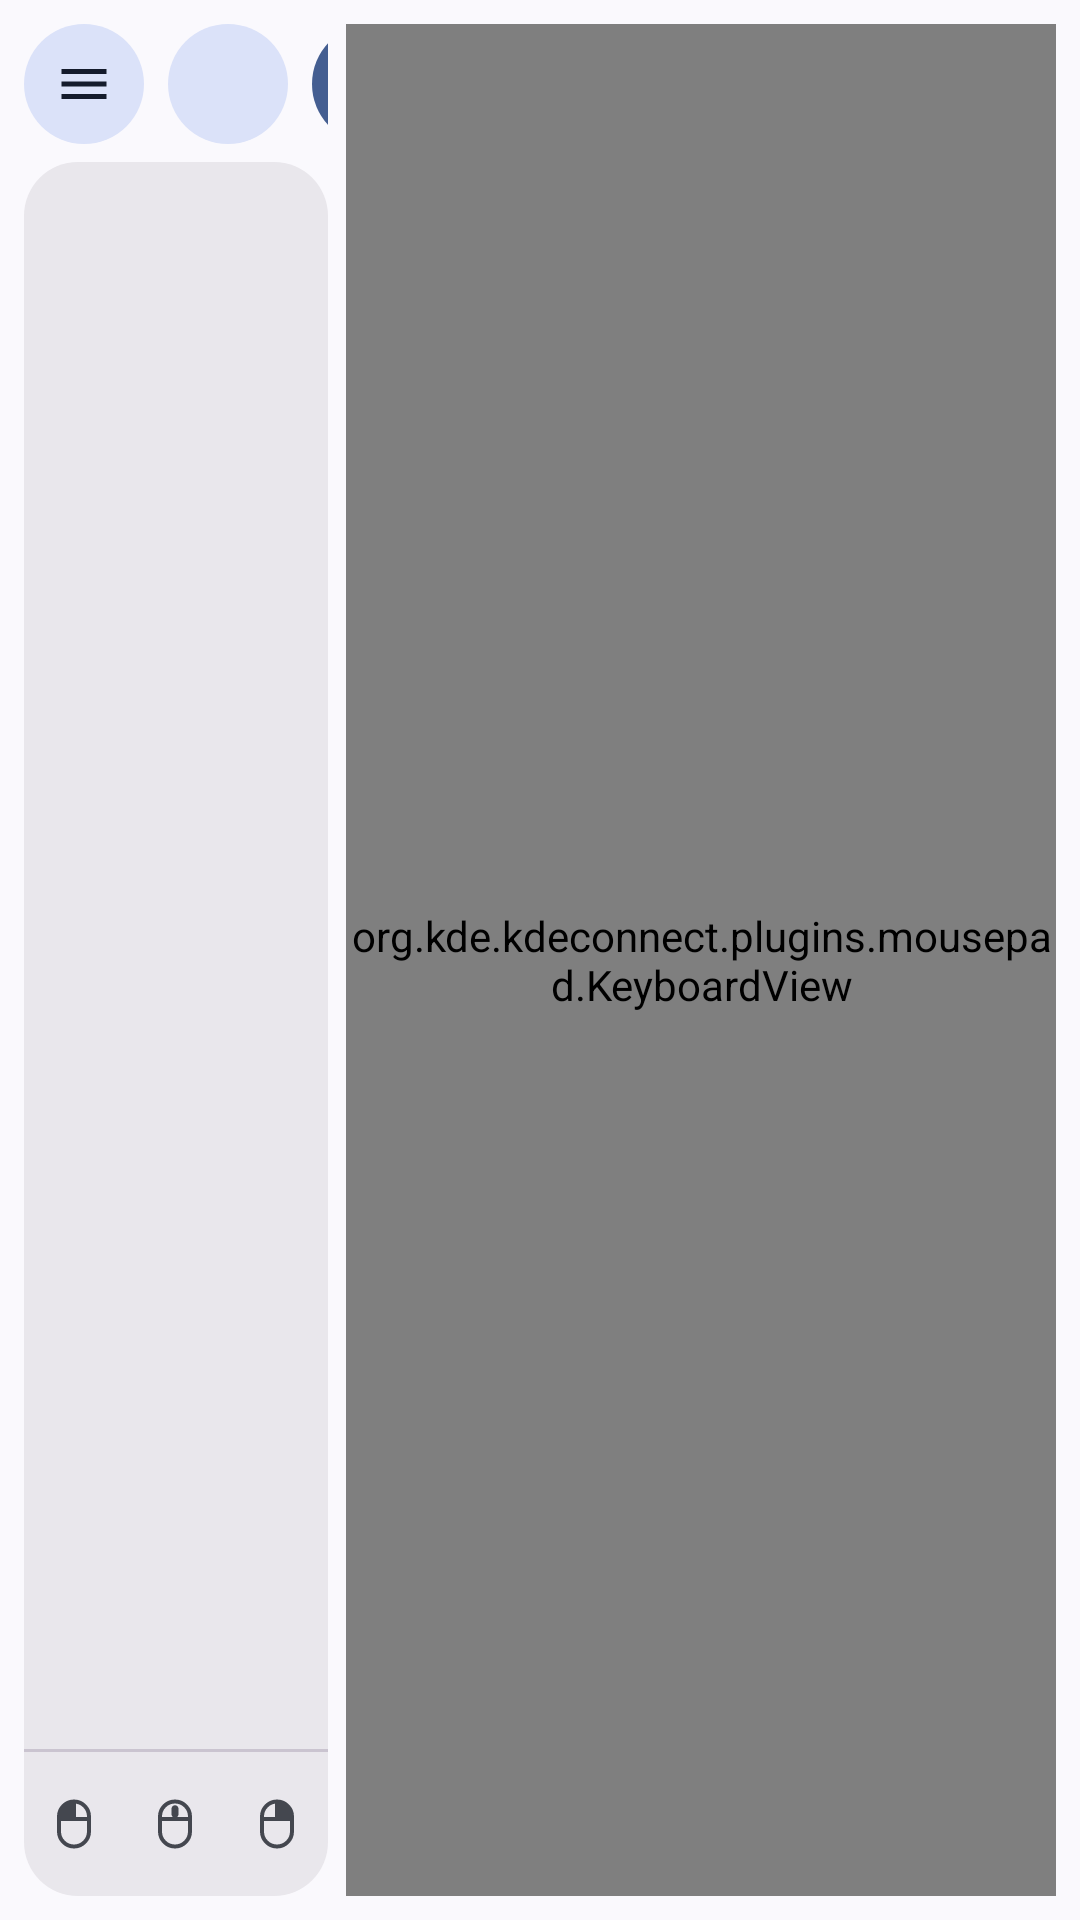

Locate icon controls on the screen. Image size 1080 x 1920, boxes as [x1, y1, x2, y2].
Menu: [24, 24, 144, 144]
Send Left Click: [57, 1799, 91, 1849]
Send Middle Click: [158, 1799, 192, 1849]
Send Right Click: [260, 1799, 294, 1849]
